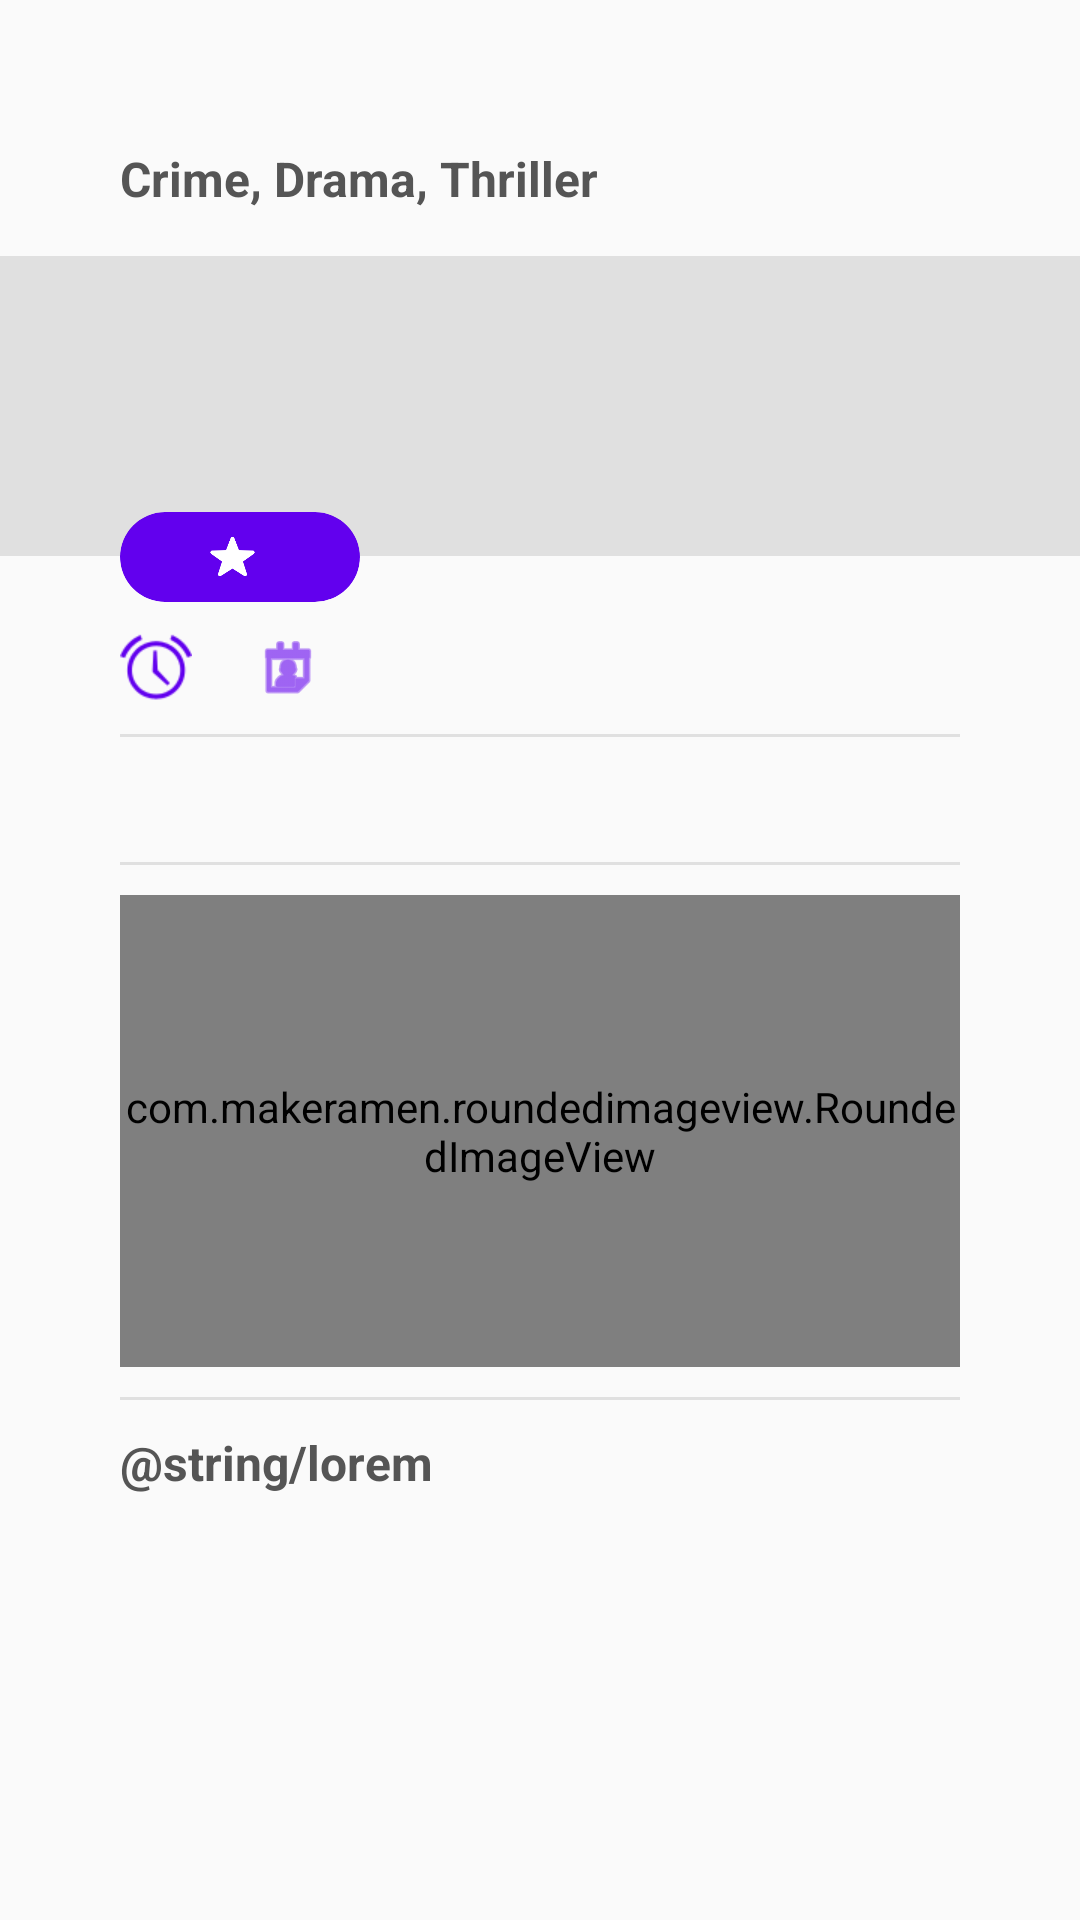

Icons on this 1080×1920 Android screen, each with its box as (x1, y1, x2, y2):
calendar: (265, 641, 311, 694)
star: (210, 537, 255, 576)
